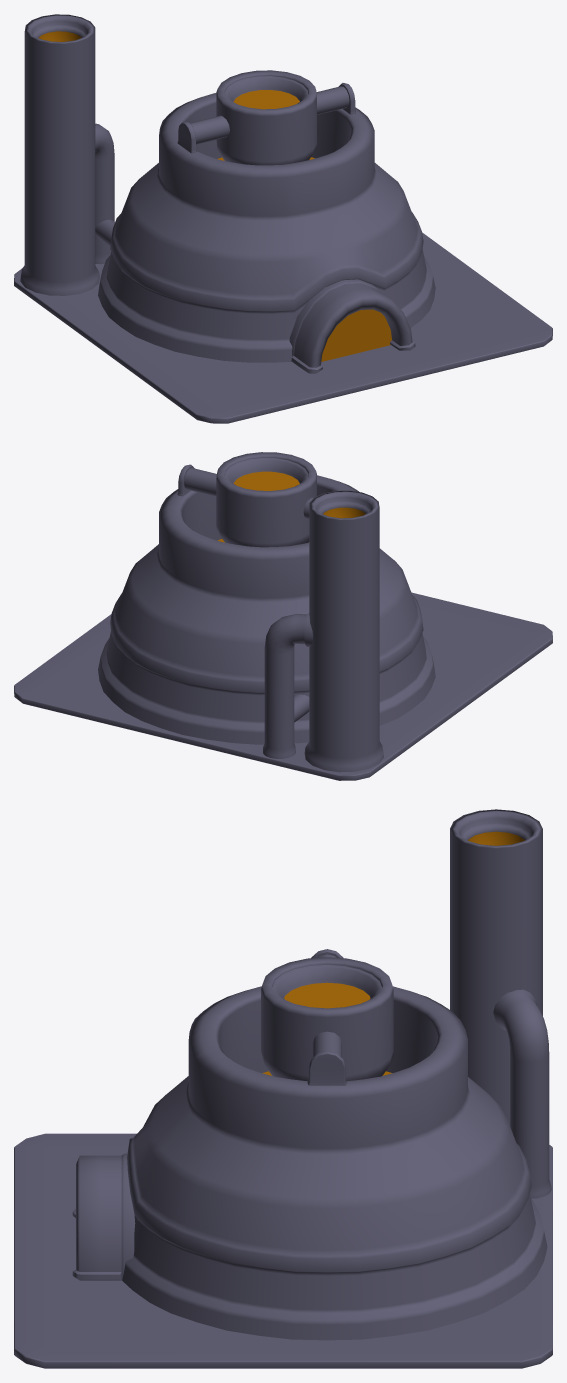
Rendered from Forge.fbx.
The picture shows the model from 3 angles, top to bottom: view 1: azimuth 30°, elevation 25°; view 2: azimuth 150°, elevation 25°; view 3: azimuth 270°, elevation 25°; orthographic projection. The views are drawn at different scales.
Visible parts, largest first — view 1: Forge; view 2: Forge; view 3: Forge.
Boxes of the visible parts, <box> form: Forge: <box>14,14,552,423</box>; Forge: <box>14,452,552,780</box>; Forge: <box>14,809,552,1368</box>.
Bounding box in the file's own units: 14.57 × 10 × 14.57.
